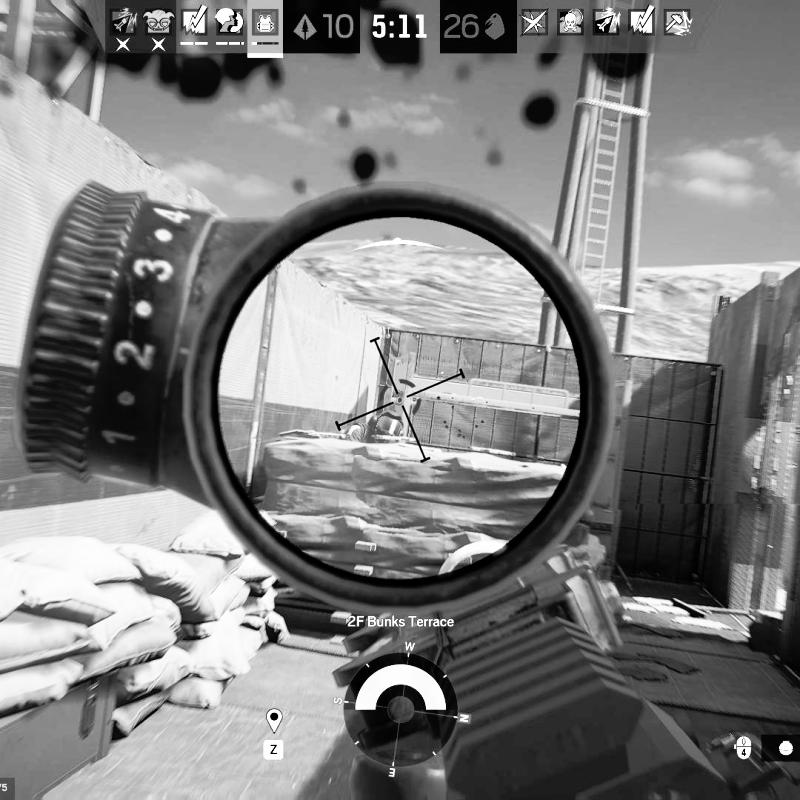Character: (343, 407, 406, 443)
Head: (369, 409, 404, 439)
